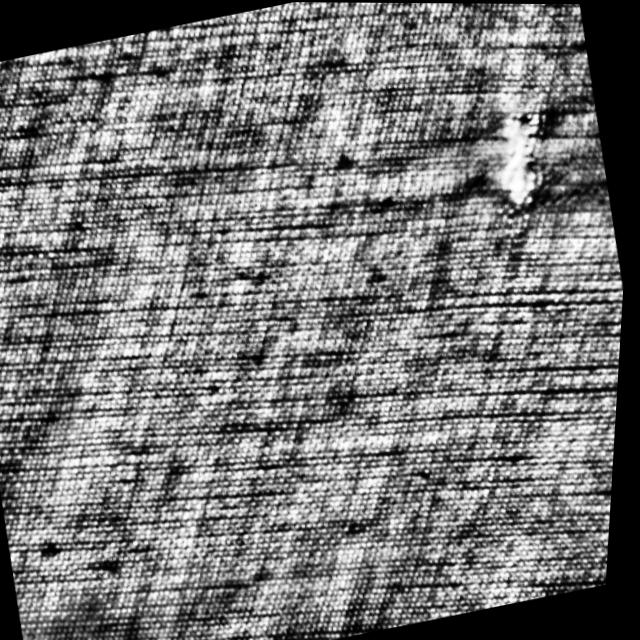Hole: (457, 79, 598, 223)
